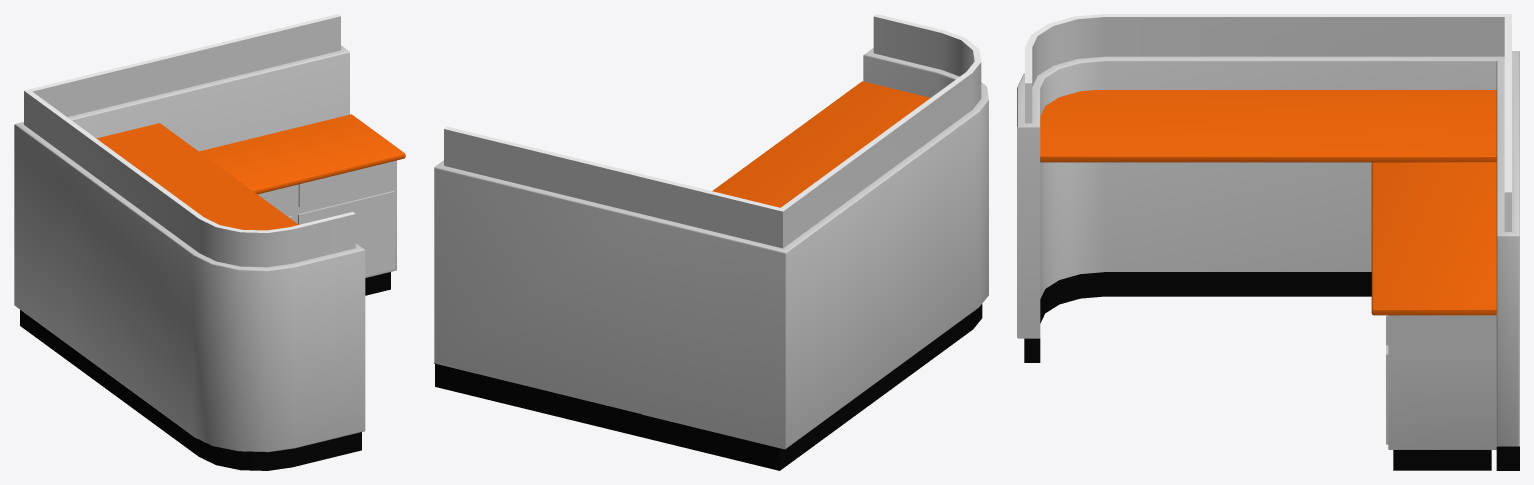
Rendered from desk_1.glb.
The picture shows the model from 3 angles, left to right: view 1: azimuth 30°, elevation 25°; view 2: azimuth 150°, elevation 25°; view 3: azimuth 270°, elevation 25°; orthographic projection. The views are drawn at different scales.
Parts seen in each view (by area): view 1: Office Paritions Desk; view 2: Office Paritions Desk; view 3: Office Paritions Desk.
Boxes of the visible parts, bbox=[...] form: Office Paritions Desk: bbox=[14, 14, 405, 470]; Office Paritions Desk: bbox=[434, 14, 988, 470]; Office Paritions Desk: bbox=[1017, 14, 1519, 470].
Size of the model in its own units: 1.54 by 1.07 by 1.76.
